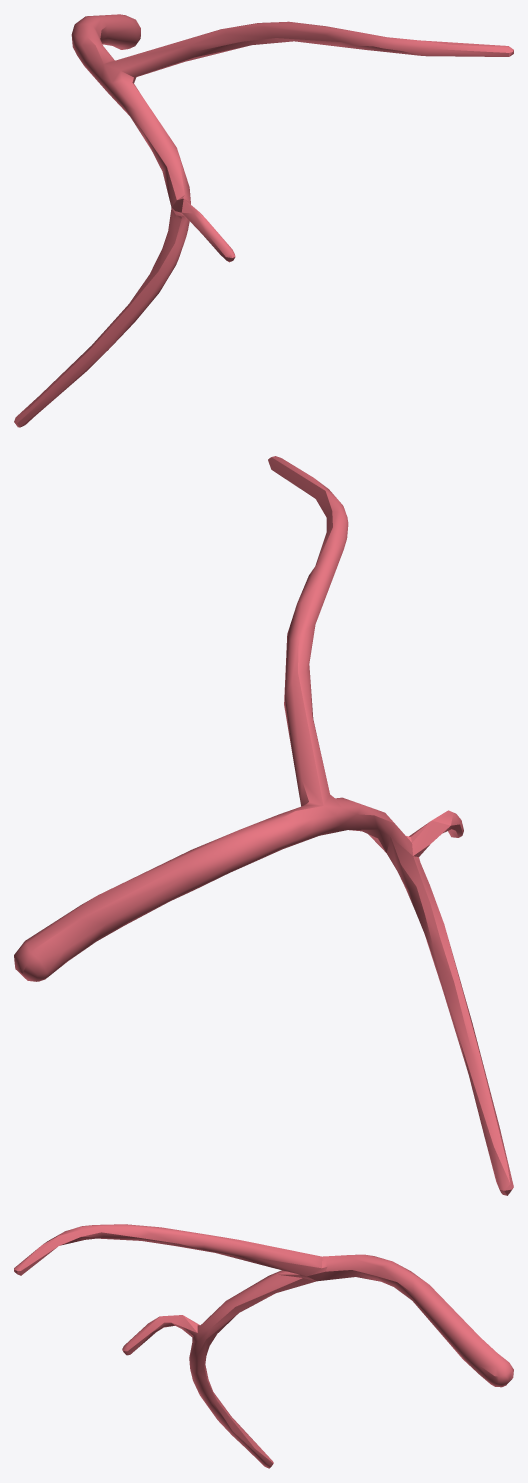
File: fma49928_fj5106.glb
3 views of the same model, one above another, from view 1: azimuth 30°, elevation 25°; view 2: azimuth 150°, elevation 25°; view 3: azimuth 270°, elevation 25° (orthographic). The views are drawn at different scales.
Visible parts, largest first — view 1: FMA49928_FJ5106; view 2: FMA49928_FJ5106; view 3: FMA49928_FJ5106.
Part boxes in pixels (x1,y1,x2,y2): FMA49928_FJ5106: [14, 14, 513, 427]; FMA49928_FJ5106: [14, 456, 513, 1195]; FMA49928_FJ5106: [14, 1224, 513, 1468].
Bounding box in the file's own units: 0.00887 × 0.0101 × 0.0133.
